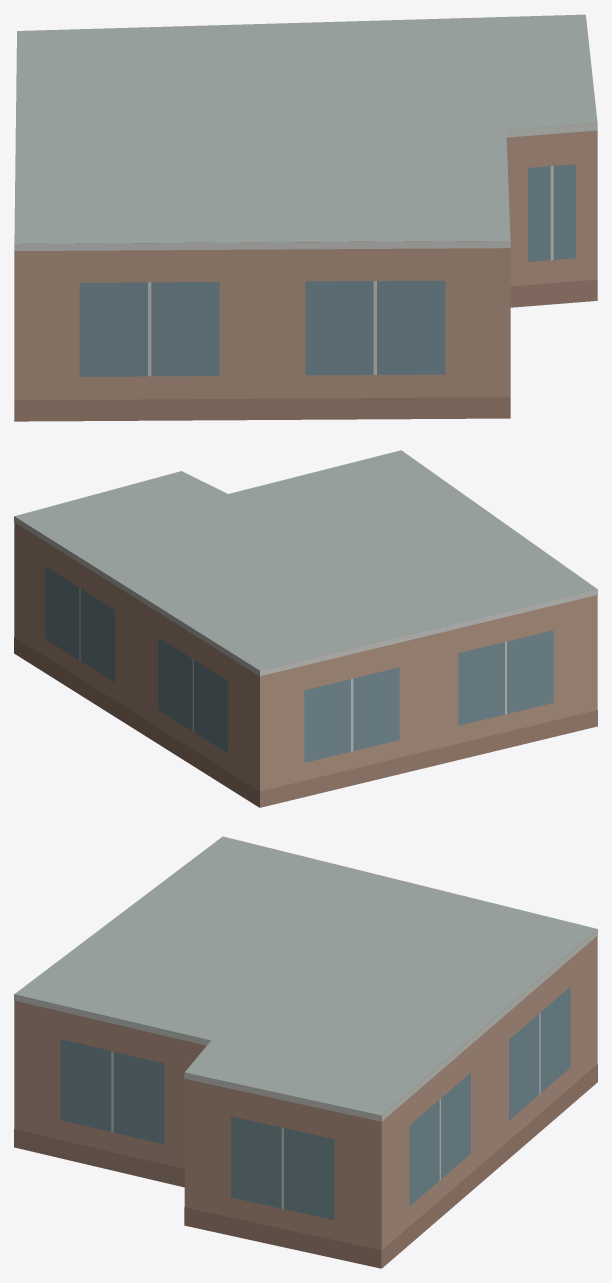
File: survey-upis-32922734.glb
3 views of the same model, one above another, from view 1: azimuth 30°, elevation 25°; view 2: azimuth 150°, elevation 25°; view 3: azimuth 270°, elevation 25° (orthographic). The views are drawn at different scales.
Parts seen in each view (by area): view 1: survey-upis-32922734.tmp; view 2: survey-upis-32922734.tmp; view 3: survey-upis-32922734.tmp.
Boxes of the visible parts, x1,y1,x2,y2 form: survey-upis-32922734.tmp: [14, 14, 597, 421]; survey-upis-32922734.tmp: [14, 450, 597, 807]; survey-upis-32922734.tmp: [14, 836, 597, 1268].
Size of the model in its own units: 11.94 by 3.05 by 10.55.
